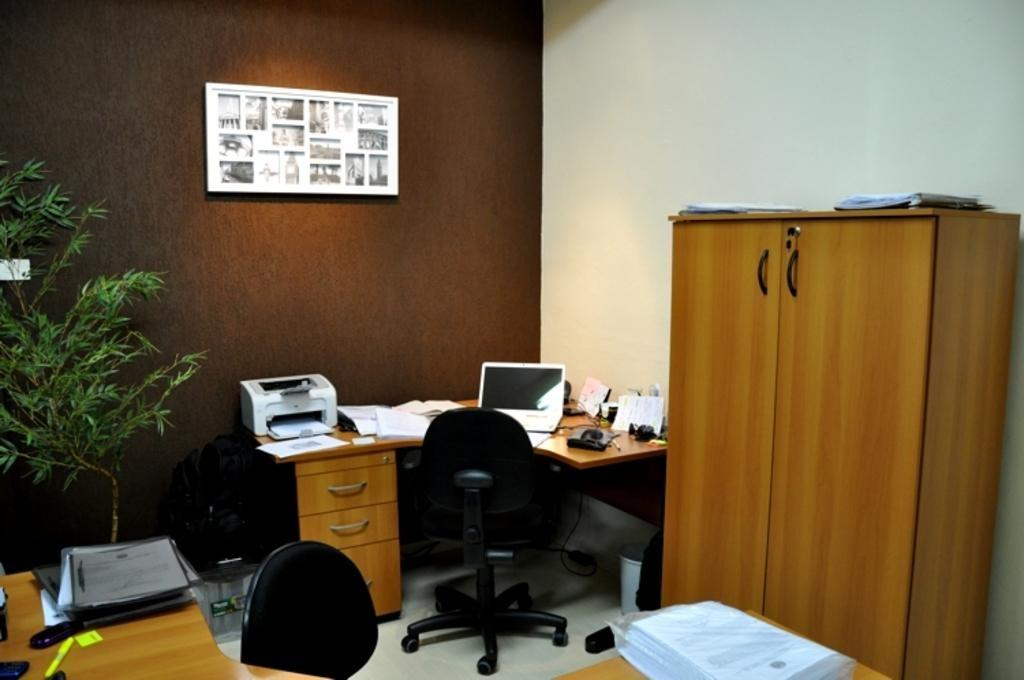Filing Cabinet: (294, 449, 402, 619)
Lemari: (659, 205, 939, 679)
Printer: (238, 371, 338, 439)
